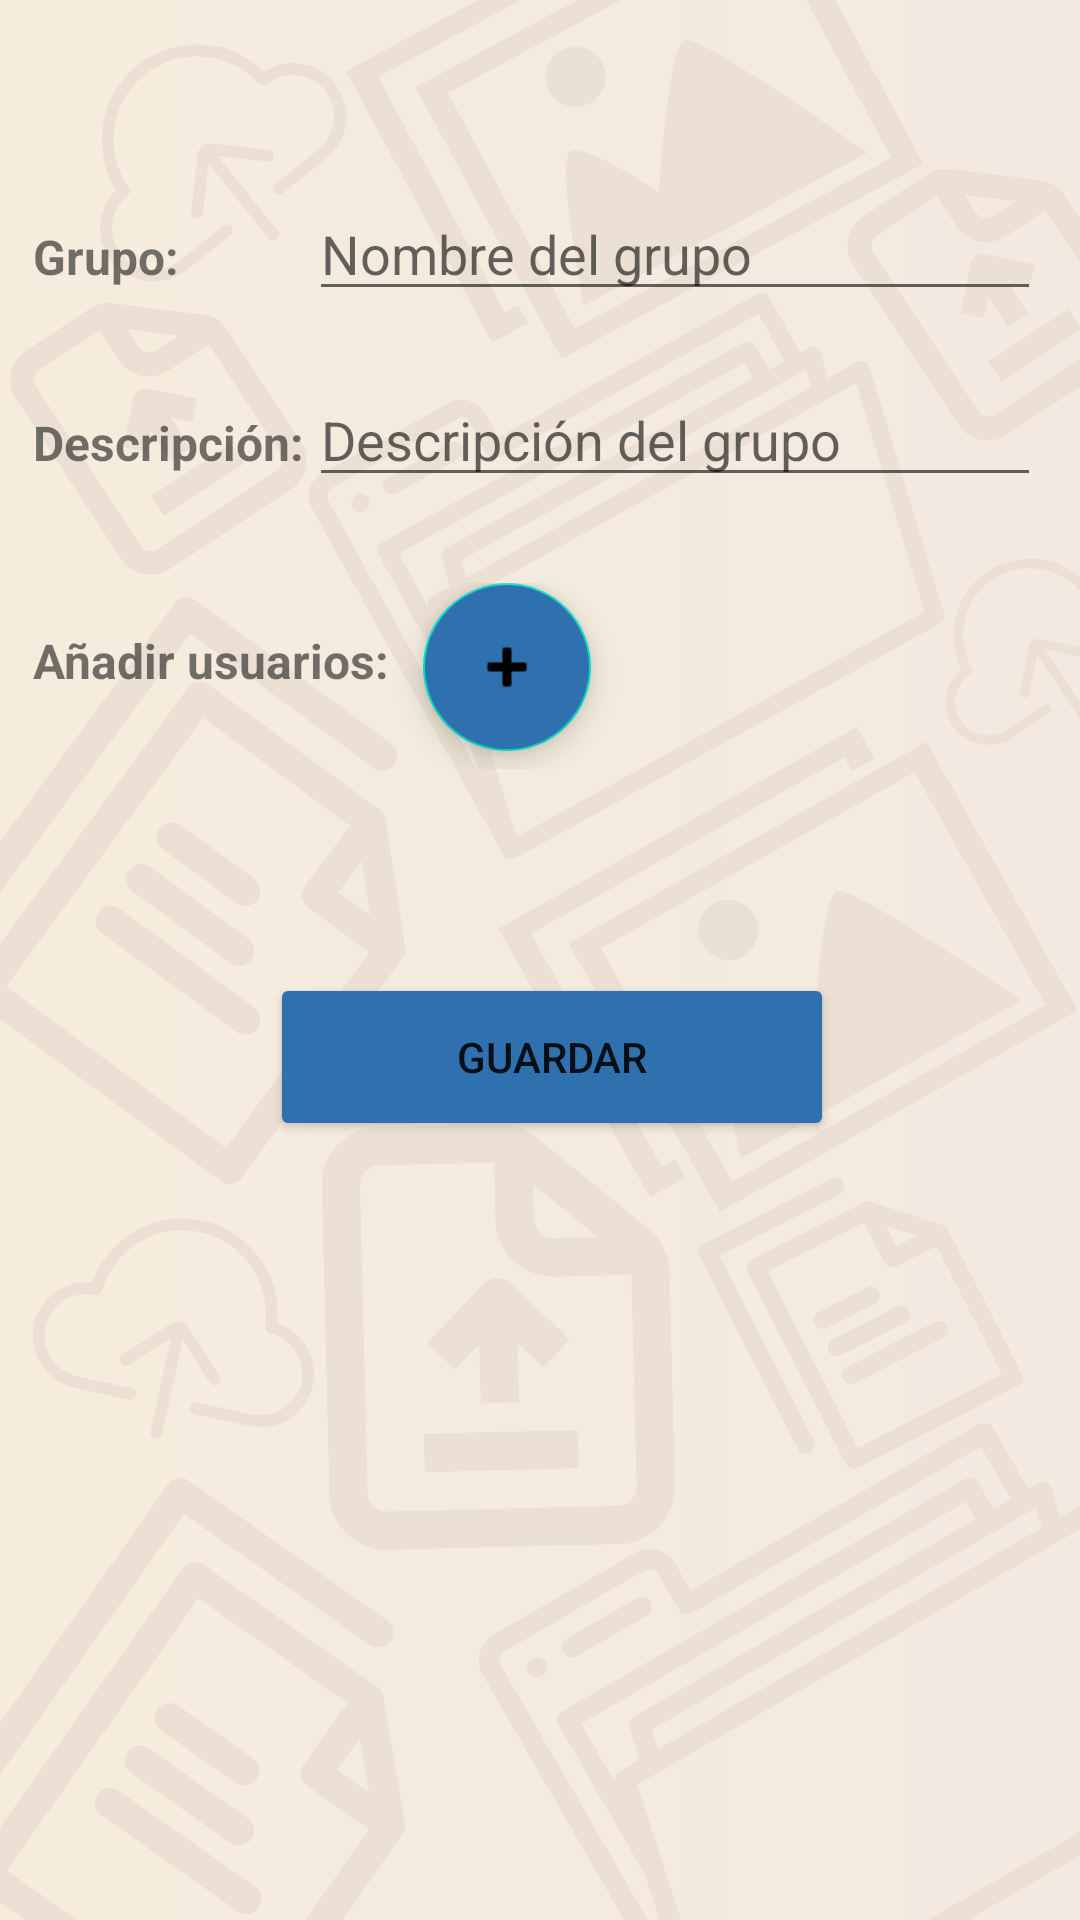

Where to tap for icons on this 1080x1920 app screen, as [x,y]:
add: [507,667]
